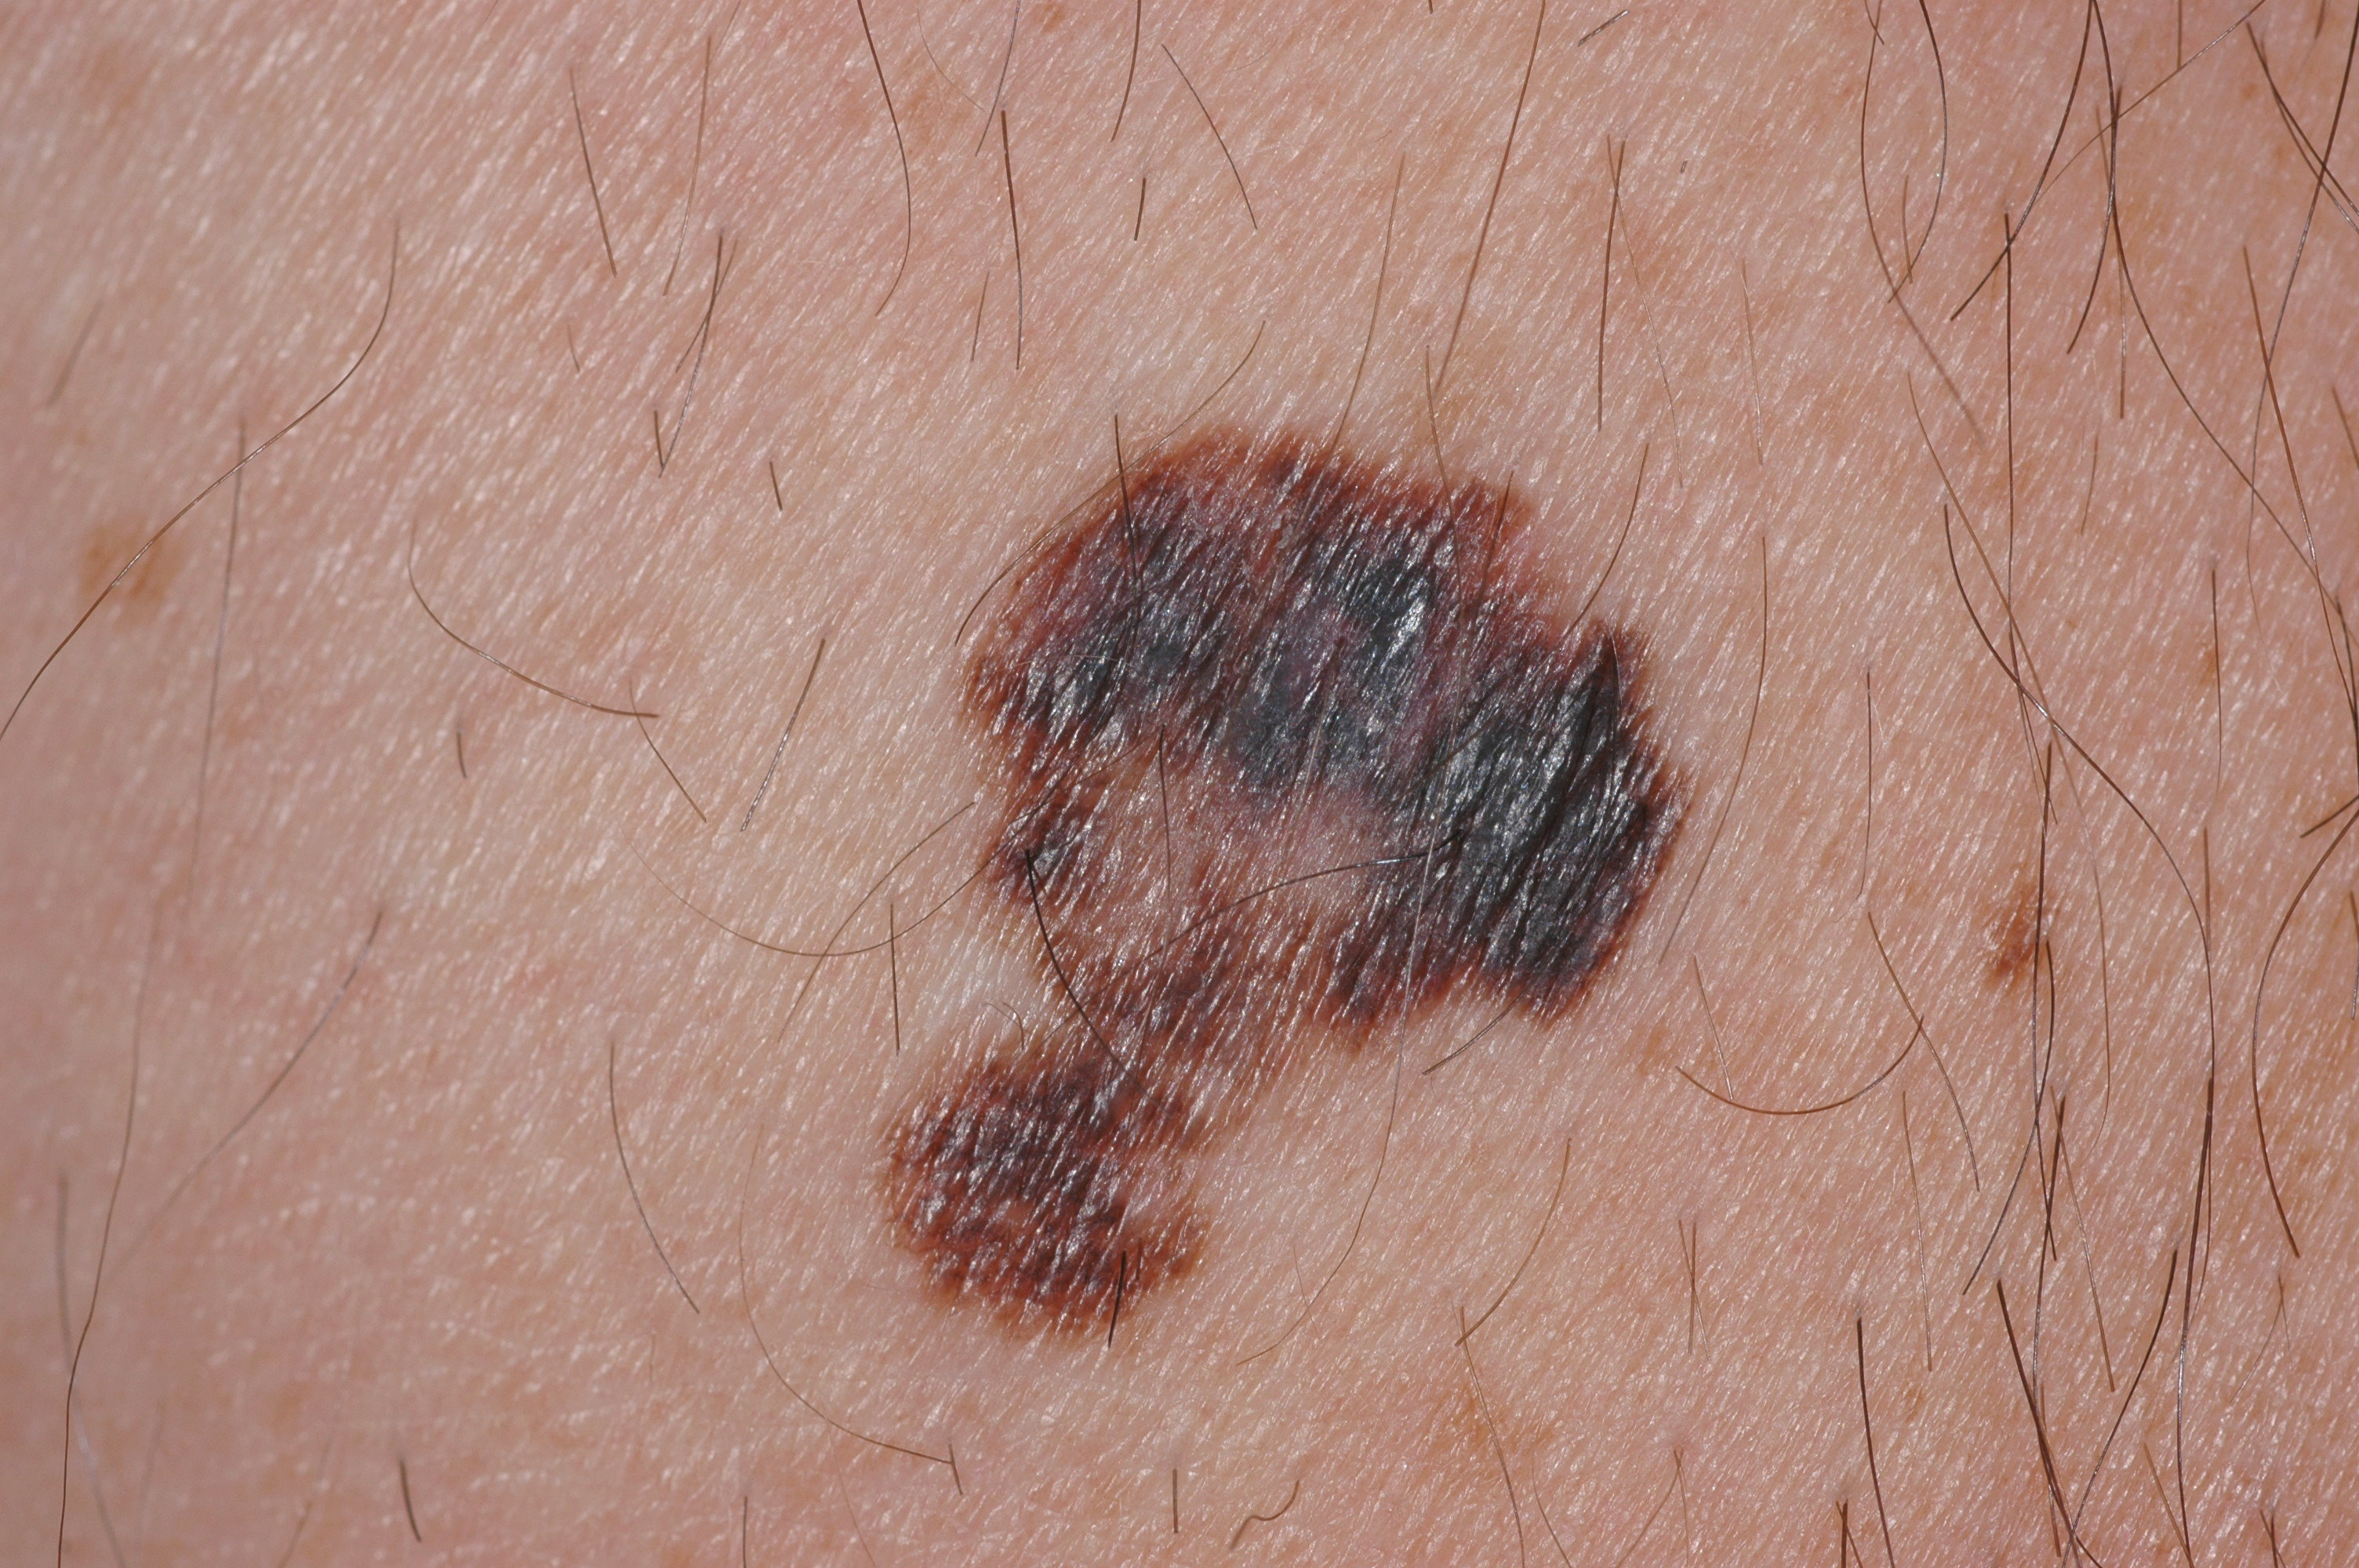Color changes: (1038, 427, 1232, 543)
